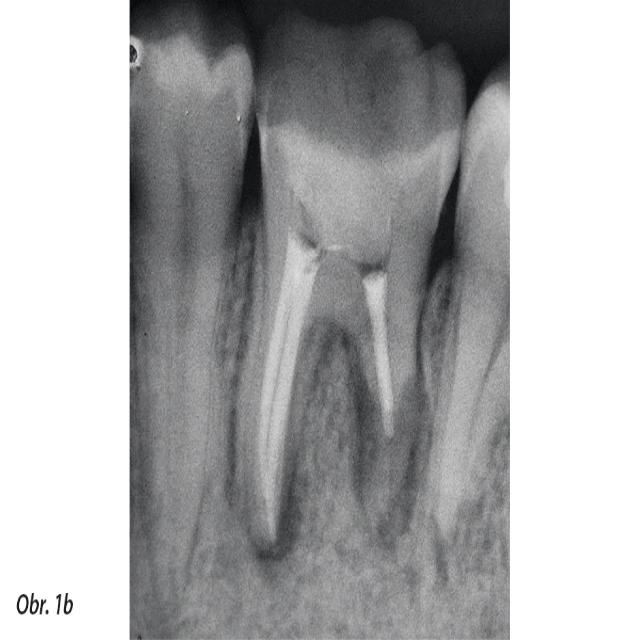Caries: (234, 16, 467, 617)
